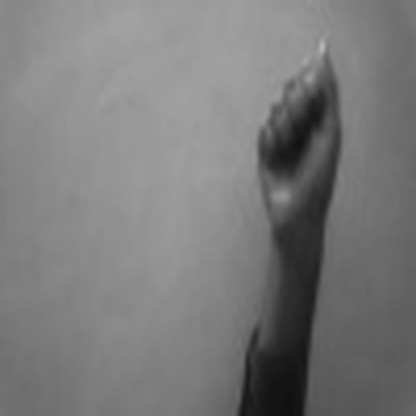a: (233, 23, 356, 238)
